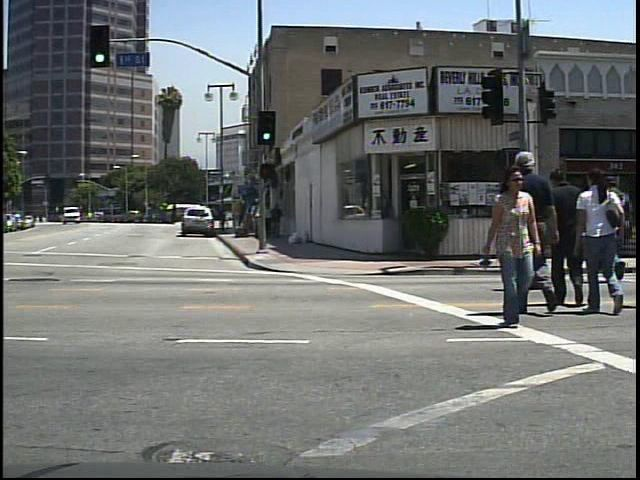person: (487, 167, 550, 335), (506, 147, 566, 323), (578, 160, 631, 320)
